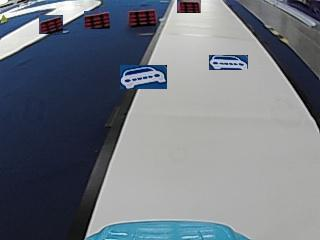bomb: (128, 8, 157, 25)
